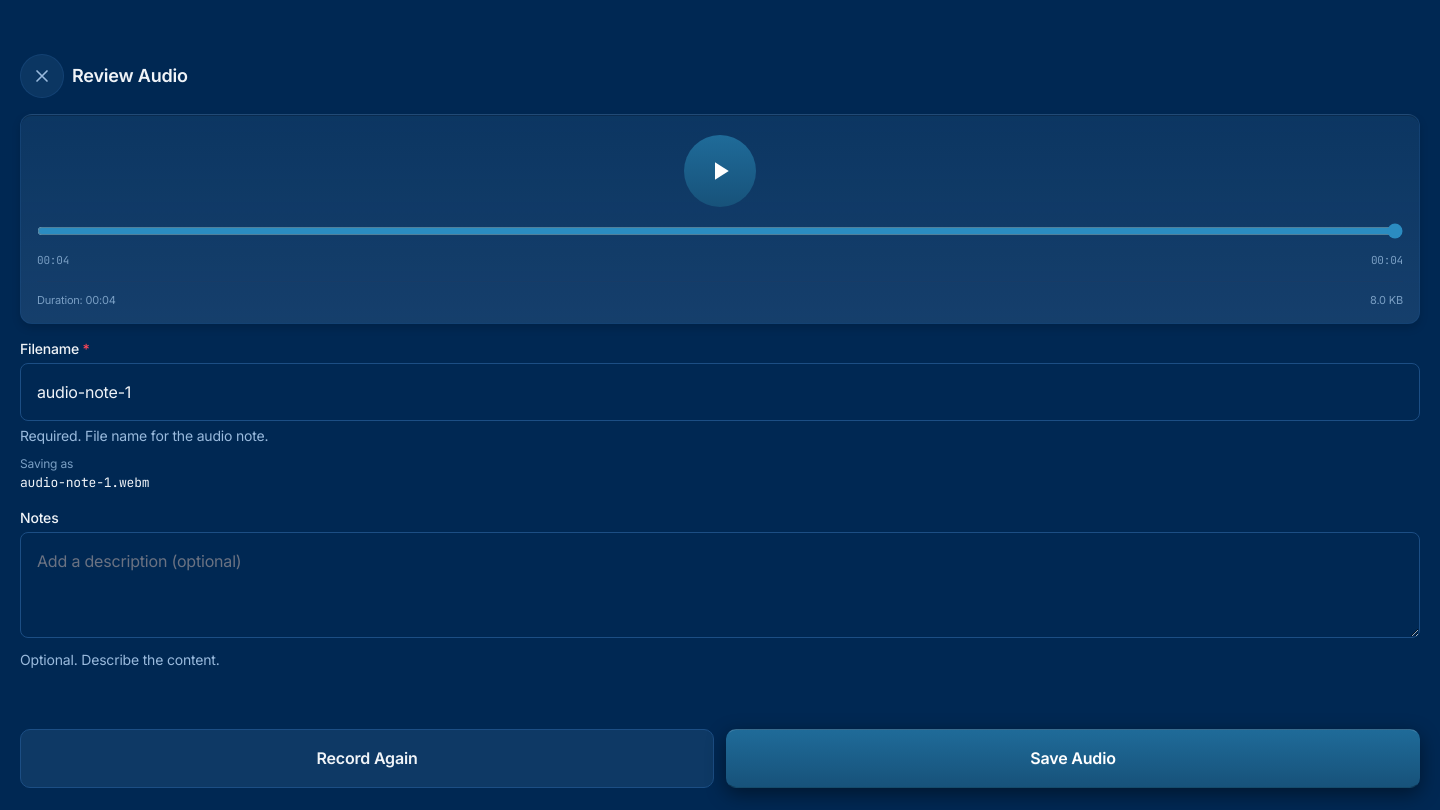
Test: AudioPreviewScreen — the auto-reset decision (plan §5 P4.6) › rewinds on the NEXT press instead, so the control is never dead (phone AudioPreview.tsx:106)
This screenshot has width=1440, height=810.
Click the button named "Play audio" at (720, 171), box [684,135,756,207]
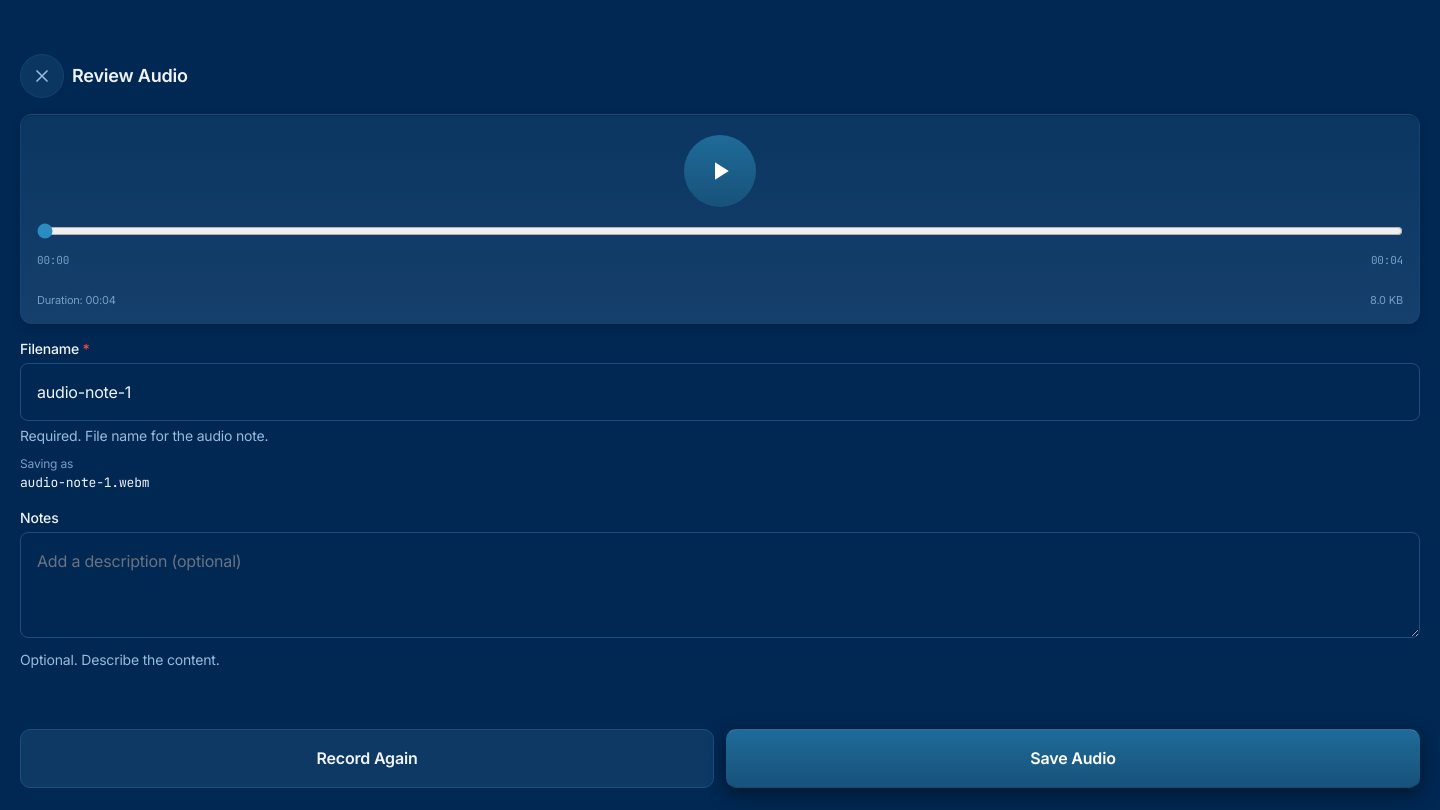
Check: the text with test id "audio-elapsed" reads "00:00", box [37,253,69,267]
